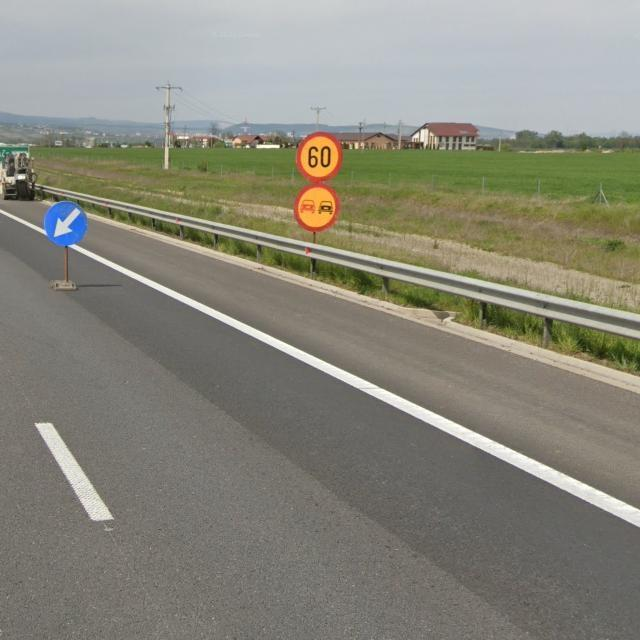forb_overtake: (293, 183, 340, 233)
forb_speed_over_60: (297, 133, 343, 182)
